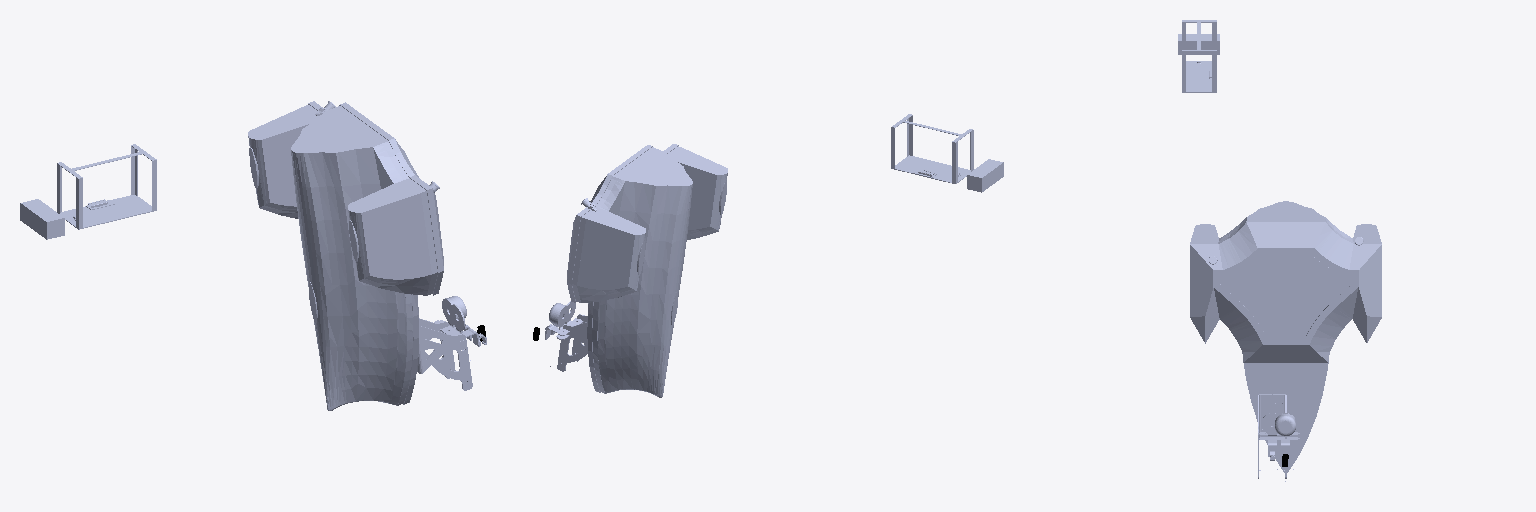
The robot description file, URDF, robot "asv_description":
<?xml version="1.0" ?>
<!-- =================================================================================== -->
<!-- |    This document was autogenerated by xacro from asv_base.xacro                 | -->
<!-- |    EDITING THIS FILE BY HAND IS NOT RECOMMENDED                                 | -->
<!-- =================================================================================== -->
<robot name="asv_description" xmlns:xacro="http://www.ros.org/wiki/xacro">
  <link name="base_footprint">
    <inertial>
      <mass value="0.0001"/>
      <origin xyz="0 0 0"/>
      <inertia ixx="0.0001" ixy="0.0" ixz="0.0" iyy="0.0001" iyz="0.0" izz="0.0001"/>
    </inertial>
    <visual>
      <origin rpy="0 0 0" xyz="0 0 0"/>
      <geometry>
        <box size="0.001 0.001 0.001"/>
      </geometry>
    </visual>
  </link>
  <joint name="base_footprint_joint" type="fixed">
    <origin rpy="0 0 -1.5707963268" xyz="0 0 0"/>
    <parent link="base_footprint"/>
    <child link="base_link"/>
  </joint>
  <link name="base_link">
    <inertial>
      <origin rpy="0 0 0" xyz="0 0 0"/>
      <mass value="8.3305"/>
      <inertia ixx="0.48818" ixy="-1.0031E-06" ixz="-0.00052597" iyy="0.77995" iyz="0.060345" izz="0.40032"/>
    </inertial>
    <visual>
      <origin rpy="0 0 0" xyz="0 0 0"/>
      <geometry>
        <mesh filename="package://asv_description/meshes/base_link.STL"/>
      </geometry>
      <material name="">
        <color rgba="0.79216 0.81961 0.93333 1"/>
      </material>
    </visual>
    <collision>
      <origin rpy="0 0 0" xyz="0 0 0"/>
      <geometry>
        <mesh filename="package://asv_description/meshes/base_link.STL"/>
      </geometry>
    </collision>
  </link>
  <link name="thruster_left">
    <inertial>
      <origin rpy="0 0 0" xyz="-5.6771E-05 0.0040313 0.0046012"/>
      <mass value="0.344"/>
      <inertia ixx="0.00021485" ixy="3.2191E-08" ixz="-2.6839E-07" iyy="0.00017649" iyz="-5.6241E-06" izz="0.00021842"/>
    </inertial>
    <visual>
      <origin rpy="0 0 0" xyz="0 0 0"/>
      <geometry>
        <mesh filename="package://asv_description/meshes/thruster_left.STL"/>
      </geometry>
      <material name="">
        <color rgba="0.79216 0.81961 0.93333 1"/>
      </material>
    </visual>
    <collision>
      <origin rpy="0 0 0" xyz="0 0 0"/>
      <geometry>
        <mesh filename="package://asv_description/meshes/thruster_left.STL"/>
      </geometry>
    </collision>
  </link>
  <joint name="body_to_thruster_left" type="fixed">
    <origin rpy="0.13754 -0.00034105 -4.7207E-05" xyz="-0.36142 -0.26516 0.17933"/>
    <parent link="base_link"/>
    <child link="thruster_left"/>
    <axis xyz="0 0 0"/>
  </joint>
  <link name="thruster_right">
    <inertial>
      <origin rpy="0 0 0" xyz="0.009147 0.051319 5.6777E-05"/>
      <mass value="0.344"/>
      <inertia ixx="0.00021842" ixy="-5.6243E-06" ixz="-2.6839E-07" iyy="0.00017649" iyz="3.2223E-08" izz="0.00021485"/>
    </inertial>
    <visual>
      <origin rpy="0 0 0" xyz="0 0 0"/>
      <geometry>
        <mesh filename="package://asv_description/meshes/thruster_right.STL"/>
      </geometry>
      <material name="">
        <color rgba="0.79216 0.81961 0.93333 1"/>
      </material>
    </visual>
    <collision>
      <origin rpy="0 0 0" xyz="0 0 0"/>
      <geometry>
        <mesh filename="package://asv_description/meshes/thruster_right.STL"/>
      </geometry>
    </collision>
  </link>
  <joint name="body_to_thruster_right" type="fixed">
    <origin rpy="-1.5683 1.4333 1.5733" xyz="0.36046 -0.21222 0.20053"/>
    <parent link="base_link"/>
    <child link="thruster_right"/>
    <axis xyz="0 0 0"/>
  </joint>
  <link name="top_body">
    <inertial>
      <origin rpy="0 0 0" xyz="-2.8917E-05 0.15165 0.037907"/>
      <mass value="2.25"/>
      <inertia ixx="0.15001" ixy="-2.6283E-07" ixz="-1.8435E-05" iyy="0.24012" iyz="-0.0048082" izz="0.091887"/>
    </inertial>
    <visual>
      <origin rpy="0 0 0" xyz="0 0 0"/>
      <geometry>
        <mesh filename="package://asv_description/meshes/top_body.STL"/>
      </geometry>
      <material name="">
        <color rgba="0.79216 0.81961 0.93333 1"/>
      </material>
    </visual>
    <collision>
      <origin rpy="0 0 0" xyz="0 0 0"/>
      <geometry>
        <mesh filename="package://asv_description/meshes/top_body.STL"/>
      </geometry>
    </collision>
  </link>
  <joint name="base_to_top_body" type="fixed">
    <origin rpy="0.13754 0 0" xyz="-0.00047785 0.0019807 -0.052277"/>
    <parent link="base_link"/>
    <child link="top_body"/>
    <axis xyz="0 0 0"/>
  </joint>
  <link name="top_cover">
    <inertial>
      <origin rpy="0 0 0" xyz="2.7931E-06 -0.018976 0.0015"/>
      <mass value="0.25"/>
      <inertia ixx="0.0040673" ixy="7.734E-08" ixz="9.5757E-11" iyy="0.0069646" iyz="1.5184E-12" izz="0.011031"/>
    </inertial>
    <visual>
      <origin rpy="0 0 0" xyz="0 0 0"/>
      <geometry>
        <mesh filename="package://asv_description/meshes/top_cover.STL"/>
      </geometry>
      <material name="">
        <color rgba="0.79216 0.81961 0.93333 1"/>
      </material>
    </visual>
    <collision>
      <origin rpy="0 0 0" xyz="0 0 0"/>
      <geometry>
        <mesh filename="package://asv_description/meshes/top_cover.STL"/>
      </geometry>
    </collision>
  </link>
  <joint name="top_body_to_cover" type="fixed">
    <origin rpy="-1.5708 0 0" xyz="0.00059952 0.19104 0.1763"/>
    <parent link="top_body"/>
    <child link="top_cover"/>
    <axis xyz="0 0 0"/>
  </joint>
  <link name="sensor_pod">
    <inertial>
      <origin rpy="0 0 0" xyz="-0.029193 -0.040604 -0.010551"/>
      <mass value="0.6495"/>
      <inertia ixx="0.0016814" ixy="-1.4742E-07" ixz="-3.6677E-05" iyy="0.0016822" iyz="-6.7581E-06" izz="8.2722E-07"/>
    </inertial>
    <visual>
      <origin rpy="0 0 0" xyz="0 0 0"/>
      <geometry>
        <mesh filename="package://asv_description/meshes/sensor_pod.STL"/>
      </geometry>
      <material name="">
        <color rgba="0.79216 0.81961 0.93333 1"/>
      </material>
    </visual>
  </link>
  <joint name="top_to_sensor_pod" type="fixed">
    <origin rpy="0 1.5708 0" xyz="0 0.2547 -0.47015"/>
    <parent link="top_body"/>
    <child link="sensor_pod"/>
    <axis xyz="0 0 1"/>
  </joint>
  <link name="camera_garmin_mounts">
    <inertial>
      <origin rpy="0 0 0" xyz="0.0027436 0.024777 0.009305"/>
      <mass value="0.11757"/>
      <inertia ixx="0.0001482" ixy="1.0861E-19" ixz="-3.2822E-19" iyy="0.00013357" iyz="4.4199E-05" izz="1.4626E-05"/>
    </inertial>
    <visual>
      <origin rpy="0 0 0" xyz="0 0 0"/>
      <geometry>
        <mesh filename="package://asv_description/meshes/camera_garmin_mounts.STL"/>
      </geometry>
      <material name="">
        <color rgba="0.79216 0.81961 0.93333 1"/>
      </material>
    </visual>
  </link>
  <joint name="pod_to_mounts" type="fixed">
    <origin rpy="0 -1.5708 0" xyz="-0.039919 0.069841 0"/>
    <parent link="sensor_pod"/>
    <child link="camera_garmin_mounts"/>
    <axis xyz="1 0 0"/>
  </joint>
  <link name="garmin">
    <inertial>
      <origin rpy="3.141592653589793 0 0" xyz="0 0.023342 0"/>
      <mass value="0.3356"/>
      <inertia ixx="0" ixy="0" ixz="0" iyy="0" iyz="0" izz="0"/>
    </inertial>
    <visual>
      <origin rpy="3.141592653589793 0 0" xyz="0 0 0"/>
      <geometry>
        <mesh filename="package://asv_description/meshes/garmin.STL"/>
      </geometry>
      <material name="">
        <color rgba="0.79216 0.81961 0.93333 1"/>
      </material>
    </visual>
  </link>
  <joint name="mount_to_garmin" type="fixed">
    <origin rpy="3.141592653589793 -0.18516 0" xyz="0.0027436 0.026 0.059"/>
    <parent link="camera_garmin_mounts"/>
    <child link="garmin"/>
    <axis xyz="0 0 0"/>
  </joint>
  <link name="camera">
    <inertial>
      <origin rpy="0 0 0" xyz="-2.8934E-05 -0.010178 0.021487"/>
      <mass value="0.041091"/>
      <inertia ixx="1.4847E-05" ixy="-3.2519E-08" ixz="-1.1631E-08" iyy="3.365E-06" iyz="-4.1204E-06" izz="1.1483E-05"/>
    </inertial>
    <visual>
      <origin rpy="0 0 0" xyz="0 0 0"/>
      <geometry>
        <mesh filename="package://asv_description/meshes/camera.STL"/>
      </geometry>
      <material name="">
        <color rgba="0.019608 0.019608 0.019608 1"/>
      </material>
    </visual>
  </link>
  <joint name="mount_to_camera" type="fixed">
    <origin rpy="3.1167 0.020214 3.1416" xyz="0.002382 0.14006 -0.050118"/>
    <parent link="camera_garmin_mounts"/>
    <child link="camera"/>
    <axis xyz="0 0 0"/>
  </joint>
  <link name="lidar">
    <inertial>
      <origin rpy="0 0 0" xyz="0.00017493 -0.020457 0.00018726"/>
      <mass value="8.4876E-05"/>
      <inertia ixx="7.4827E-08" ixy="1.3927E-09" ixz="-5.2849E-10" iyy="1.4091E-07" iyz="1.6125E-09" izz="7.4592E-08"/>
    </inertial>
    <visual>
      <origin rpy="0 0 0" xyz="0 0 0"/>
      <geometry>
        <mesh filename="package://asv_description/meshes/lidar.STL"/>
      </geometry>
      <material name="">
        <color rgba="0.79216 0.81961 0.93333 1"/>
      </material>
    </visual>
  </link>
  <joint name="pod_to_lidar" type="fixed">
    <origin rpy="2.9322 -1.5708 0" xyz="0.12046 0.10702 0.0022421"/>
    <parent link="sensor_pod"/>
    <child link="lidar"/>
    <axis xyz="0 0 0"/>
  </joint>
  <link name="kill_switch_2">
    <inertial>
      <origin rpy="0 0 0" xyz="0.21906 0.04363 0.013308"/>
      <mass value="0.048397"/>
      <inertia ixx="0" ixy="0" ixz="0" iyy="0" iyz="0" izz="0"/>
    </inertial>
    <visual>
      <origin rpy="0 0 0" xyz="0 0 0"/>
      <geometry>
        <mesh filename="package://asv_description/meshes/kill_switch_2.STL"/>
      </geometry>
      <material name="">
        <color rgba="0.79216 0.81961 0.93333 1"/>
      </material>
    </visual>
  </link>
  <joint name="top_to_kill_2" type="fixed">
    <origin rpy="1.5708 0.5236 -1.5708" xyz="0.34081 0.37001 0.43324"/>
    <parent link="top_body"/>
    <child link="kill_switch_2"/>
    <axis xyz="0 0 0"/>
  </joint>
  <link name="kill_switch_1">
    <inertial>
      <origin rpy="0 0 0" xyz="0.21906 0.04363 0.013308"/>
      <mass value="0.048397"/>
      <inertia ixx="0" ixy="0" ixz="0" iyy="0" iyz="0" izz="0"/>
    </inertial>
    <visual>
      <origin rpy="0 0 0" xyz="0 0 0"/>
      <geometry>
        <mesh filename="package://asv_description/meshes/kill_switch_1.STL"/>
      </geometry>
      <material name="">
        <color rgba="0.79216 0.81961 0.93333 1"/>
      </material>
    </visual>
  </link>
  <joint name="top_to_kill_1" type="fixed">
    <origin rpy="-1.5708 0.5236 -1.5708" xyz="-0.34081 0.32638 0.50881"/>
    <parent link="top_body"/>
    <child link="kill_switch_1"/>
    <axis xyz="0 0 0"/>
  </joint>
  <link name="battery_1">
    <inertial>
      <origin rpy="0 0 0" xyz="-5.5511E-17 0.0185 0"/>
      <mass value="0.4921"/>
      <inertia ixx="0" ixy="0" ixz="0" iyy="0" iyz="0" izz="0"/>
    </inertial>
    <visual>
      <origin rpy="0 0 0" xyz="0 0 0"/>
      <geometry>
        <mesh filename="package://asv_description/meshes/battery_1.STL"/>
      </geometry>
      <material name="">
        <color rgba="0.79216 0.81961 0.93333 1"/>
      </material>
    </visual>
  </link>
  <joint name="body_to_battery" type="fixed">
    <origin rpy="3.1416 0 0" xyz="0.38768 -1.5211 0.59834"/>
    <parent link="base_link"/>
    <child link="battery_1"/>
    <axis xyz="0 0 0"/>
  </joint>
  <link name="battery_2">
    <inertial>
      <origin rpy="0 0 0" xyz="-5.5511E-17 0.0185 0"/>
      <mass value="0.4921"/>
      <inertia ixx="0" ixy="0" ixz="0" iyy="0" iyz="0" izz="0"/>
    </inertial>
    <visual>
      <origin rpy="0 0 0" xyz="0 0 0"/>
      <geometry>
        <mesh filename="package://asv_description/meshes/battery_2.STL"/>
      </geometry>
      <material name="">
        <color rgba="0.79216 0.81961 0.93333 1"/>
      </material>
    </visual>
  </link>
  <joint name="battery_1_to_battery_2" type="fixed">
    <origin rpy="0 0 0" xyz="0 -0.037 0"/>
    <parent link="battery_1"/>
    <child link="battery_2"/>
    <axis xyz="0 0 0"/>
  </joint>
  <link name="mount">
    <inertial>
      <origin rpy="0 0 0" xyz="5.5511E-16 0.045908 -1.9984E-15"/>
      <mass value="0.23261"/>
      <inertia ixx="0" ixy="0" ixz="0" iyy="0" iyz="0" izz="0"/>
    </inertial>
    <visual>
      <origin rpy="0 0 0" xyz="0 0 0"/>
      <geometry>
        <mesh filename="package://asv_description/meshes/mount.STL"/>
      </geometry>
      <material name="">
        <color rgba="0.79216 0.81961 0.93333 1"/>
      </material>
    </visual>
  </link>
  <joint name="body_to_mount" type="fixed">
    <origin rpy="1.5708 0 0" xyz="0.38768 -1.2531 0.56334"/>
    <parent link="base_link"/>
    <child link="mount"/>
    <axis xyz="0 0 0"/>
  </joint>
  <link name="rs_232_port">
    <inertial>
      <origin rpy="0 0 0" xyz="6.911E-07 0.00015008 -0.0062931"/>
      <mass value="0.020002"/>
      <inertia ixx="0" ixy="0" ixz="0" iyy="0" iyz="0" izz="0"/>
    </inertial>
    <visual>
      <origin rpy="0 0 0" xyz="0 0 0"/>
      <geometry>
        <mesh filename="package://asv_description/meshes/rs_232_port.STL"/>
      </geometry>
      <material name="">
        <color rgba="0.79216 0.81961 0.93333 1"/>
      </material>
    </visual>
  </link>
  <joint name="mount_to_port" type="fixed">
    <origin rpy="-1.5708 0 0" xyz="0 0.0134 0.13225"/>
    <parent link="mount"/>
    <child link="rs_232_port"/>
    <axis xyz="0 0 0"/>
  </joint>
  <link name="status_board">
    <inertial>
      <origin rpy="0 0 0" xyz="-0.00056781 0.0042824 0.02751"/>
      <mass value="0.13407"/>
      <inertia ixx="6.9707E-07" ixy="4.0982E-08" ixz="5.6997E-08" iyy="4.6531E-07" iyz="-3.2949E-07" izz="2.4594E-07"/>
    </inertial>
    <visual>
      <origin rpy="0 0 0" xyz="0 0 0"/>
      <geometry>
        <mesh filename="package://asv_description/meshes/status_board.STL"/>
      </geometry>
      <material name="">
        <color rgba="0.79216 0.81961 0.93333 1"/>
      </material>
    </visual>
  </link>
  <joint name="mount_to_status_board" type="fixed">
    <origin rpy="0 0 0" xyz="-0.058 0.003 -0.032"/>
    <parent link="mount"/>
    <child link="status_board"/>
    <axis xyz="0 0 0"/>
  </joint>
</robot>

--- Facts derived from the render (not from the file) ---
The picture shows the robot from 3 angles, left to right: view 1: azimuth 30°, elevation 25°; view 2: azimuth 150°, elevation 25°; view 3: azimuth 270°, elevation 25°; orthographic projection.
Robot: asv_description — 18 links, 17 joints (17 fixed); root link base_footprint; default pose: all joints at 0.
Visible links, largest first — view 1: base_link, mount, sensor_pod, top_body, battery_1; view 2: base_link, mount, top_body, sensor_pod, battery_1; view 3: top_body, top_cover, base_link, mount, sensor_pod.
Boxes of the visible links, x1,y1,x2,y2 form: base_link: (248,105,437,410); mount: (57,144,156,229); sensor_pod: (417,304,486,390); top_body: (308,101,443,404); battery_1: (20,201,55,239); base_link: (572,146,727,397); mount: (891,114,973,183); top_body: (567,144,678,392); sensor_pod: (545,301,587,371); battery_1: (975,161,1003,192); top_body: (1190,221,1381,472); top_cover: (1220,255,1351,337); base_link: (1191,201,1380,335); mount: (1182,20,1216,92); sensor_pod: (1258,394,1286,478).
Bounding box of the posed robot: 2.11 × 0.912 × 1.47 m (x, y, z).
15 mesh visuals loaded from 17 distinct referenced files (15 binary STL); not drawn: 2 (reference not matched to a file when rendering).